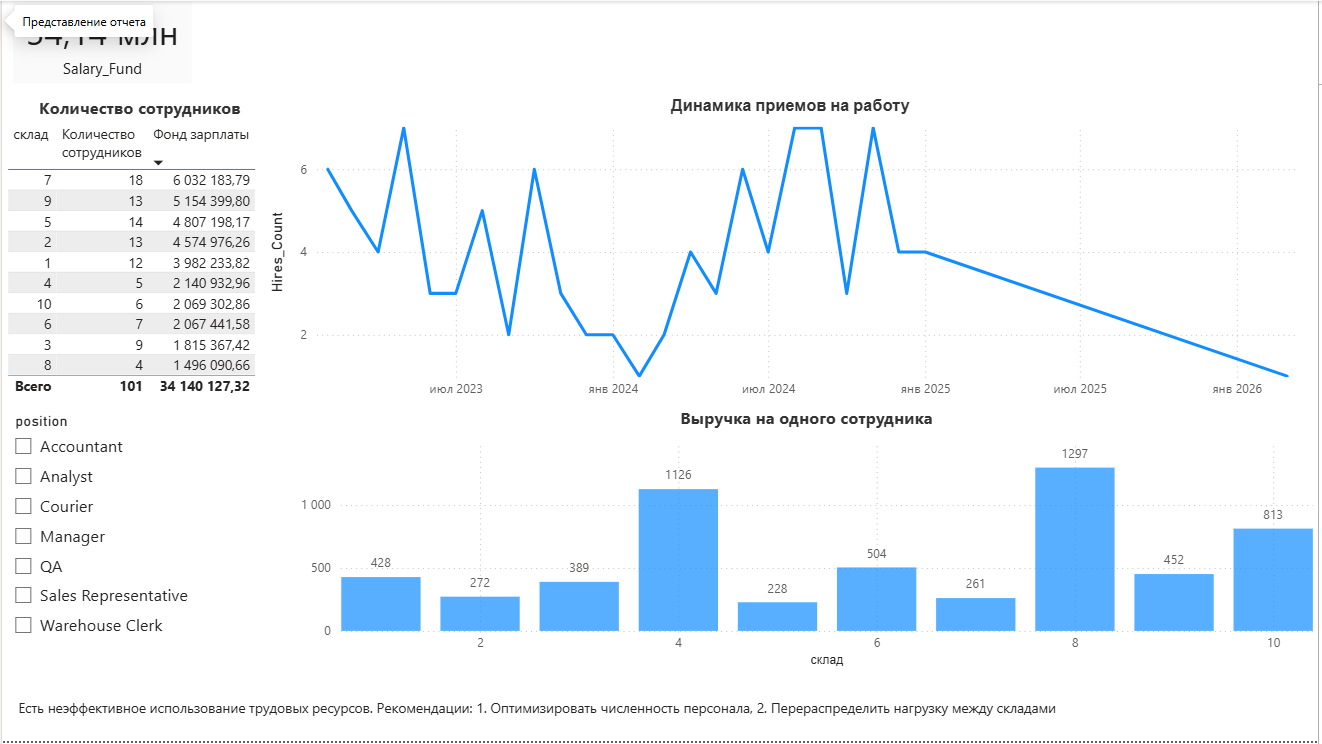

The page's visual inventory and layout, read from the dashboard file:
{"tool":"powerbi","page":{"name":"Сотрудники","canvas":[1280,720],"ordinal":3},"visuals":[{"type":"tableEx","title":"Количество сотрудников","fields":{"Values":["Student public_staff.warehouse_id","Count(Student public_staff.staff_id)","Student public_staff.Salary_Fund"]},"box":[0,93.4,268.4,301.5],"z":0},{"type":"card","fields":{"Values":["Student public_staff.Salary_Fund"]},"box":[10.7,0,174.1,79.8],"z":2},{"type":"lineChart","title":"Динамика приемов на работу","fields":{"Category":["Student public_staff.hire_date.Изменение.Иерархия дат.Год","Student public_staff.hire_date.Изменение.Иерархия дат.Месяц"],"Y":["Student public_staff.Hires_Count"]},"box":[253.9,93.4,1026.1,301.5],"z":3},{"type":"clusteredColumnChart","title":"Выручка на одного сотрудника","fields":{"Category":["Student public_revenue_wb.warehouse_id"],"Y":["Student public_revenue_wb.Revenue_per_Employee"]},"box":[285,394.9,995,256.8],"z":4},{"type":"slicer","fields":{"Values":["Student public_staff.position"]},"box":[0,395,268,257],"z":5},{"type":"textbox","box":[10.7,673.1,1262.5,34],"z":6}]}

Visuals, with their boxes on the page's 1280x720 design canvas (x1, y1, x2, y2). These are canvas units, not pixel positions in the 1322x744 screenshot, which may show the page scaled, cropped or inside an application window:
"Количество сотрудников" tableEx: bbox(0, 93, 268, 395)
card - Student public_staff.Salary_Fund: bbox(11, 0, 185, 80)
"Динамика приемов на работу" lineChart: bbox(254, 93, 1280, 395)
"Выручка на одного сотрудника" clusteredColumnChart: bbox(285, 395, 1280, 652)
slicer - Student public_staff.position: bbox(0, 395, 268, 652)
textbox: bbox(11, 673, 1273, 707)
